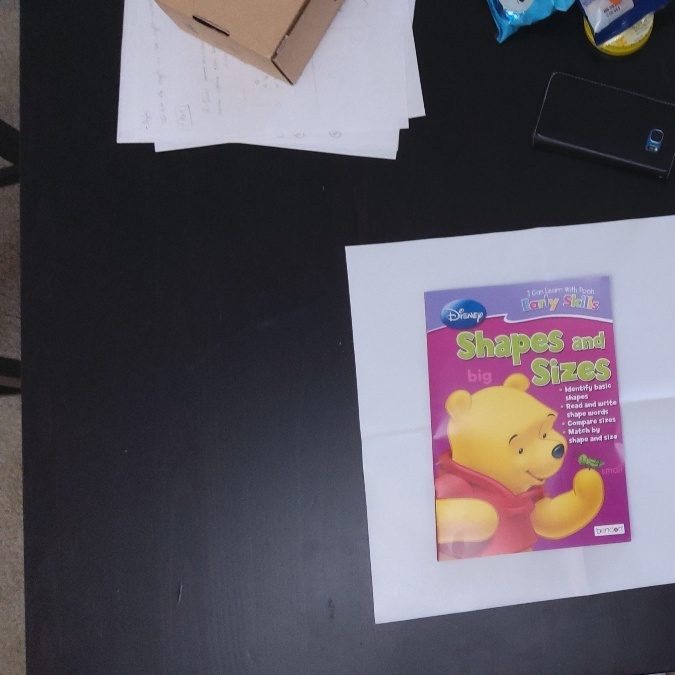book: (426, 293, 617, 552)
